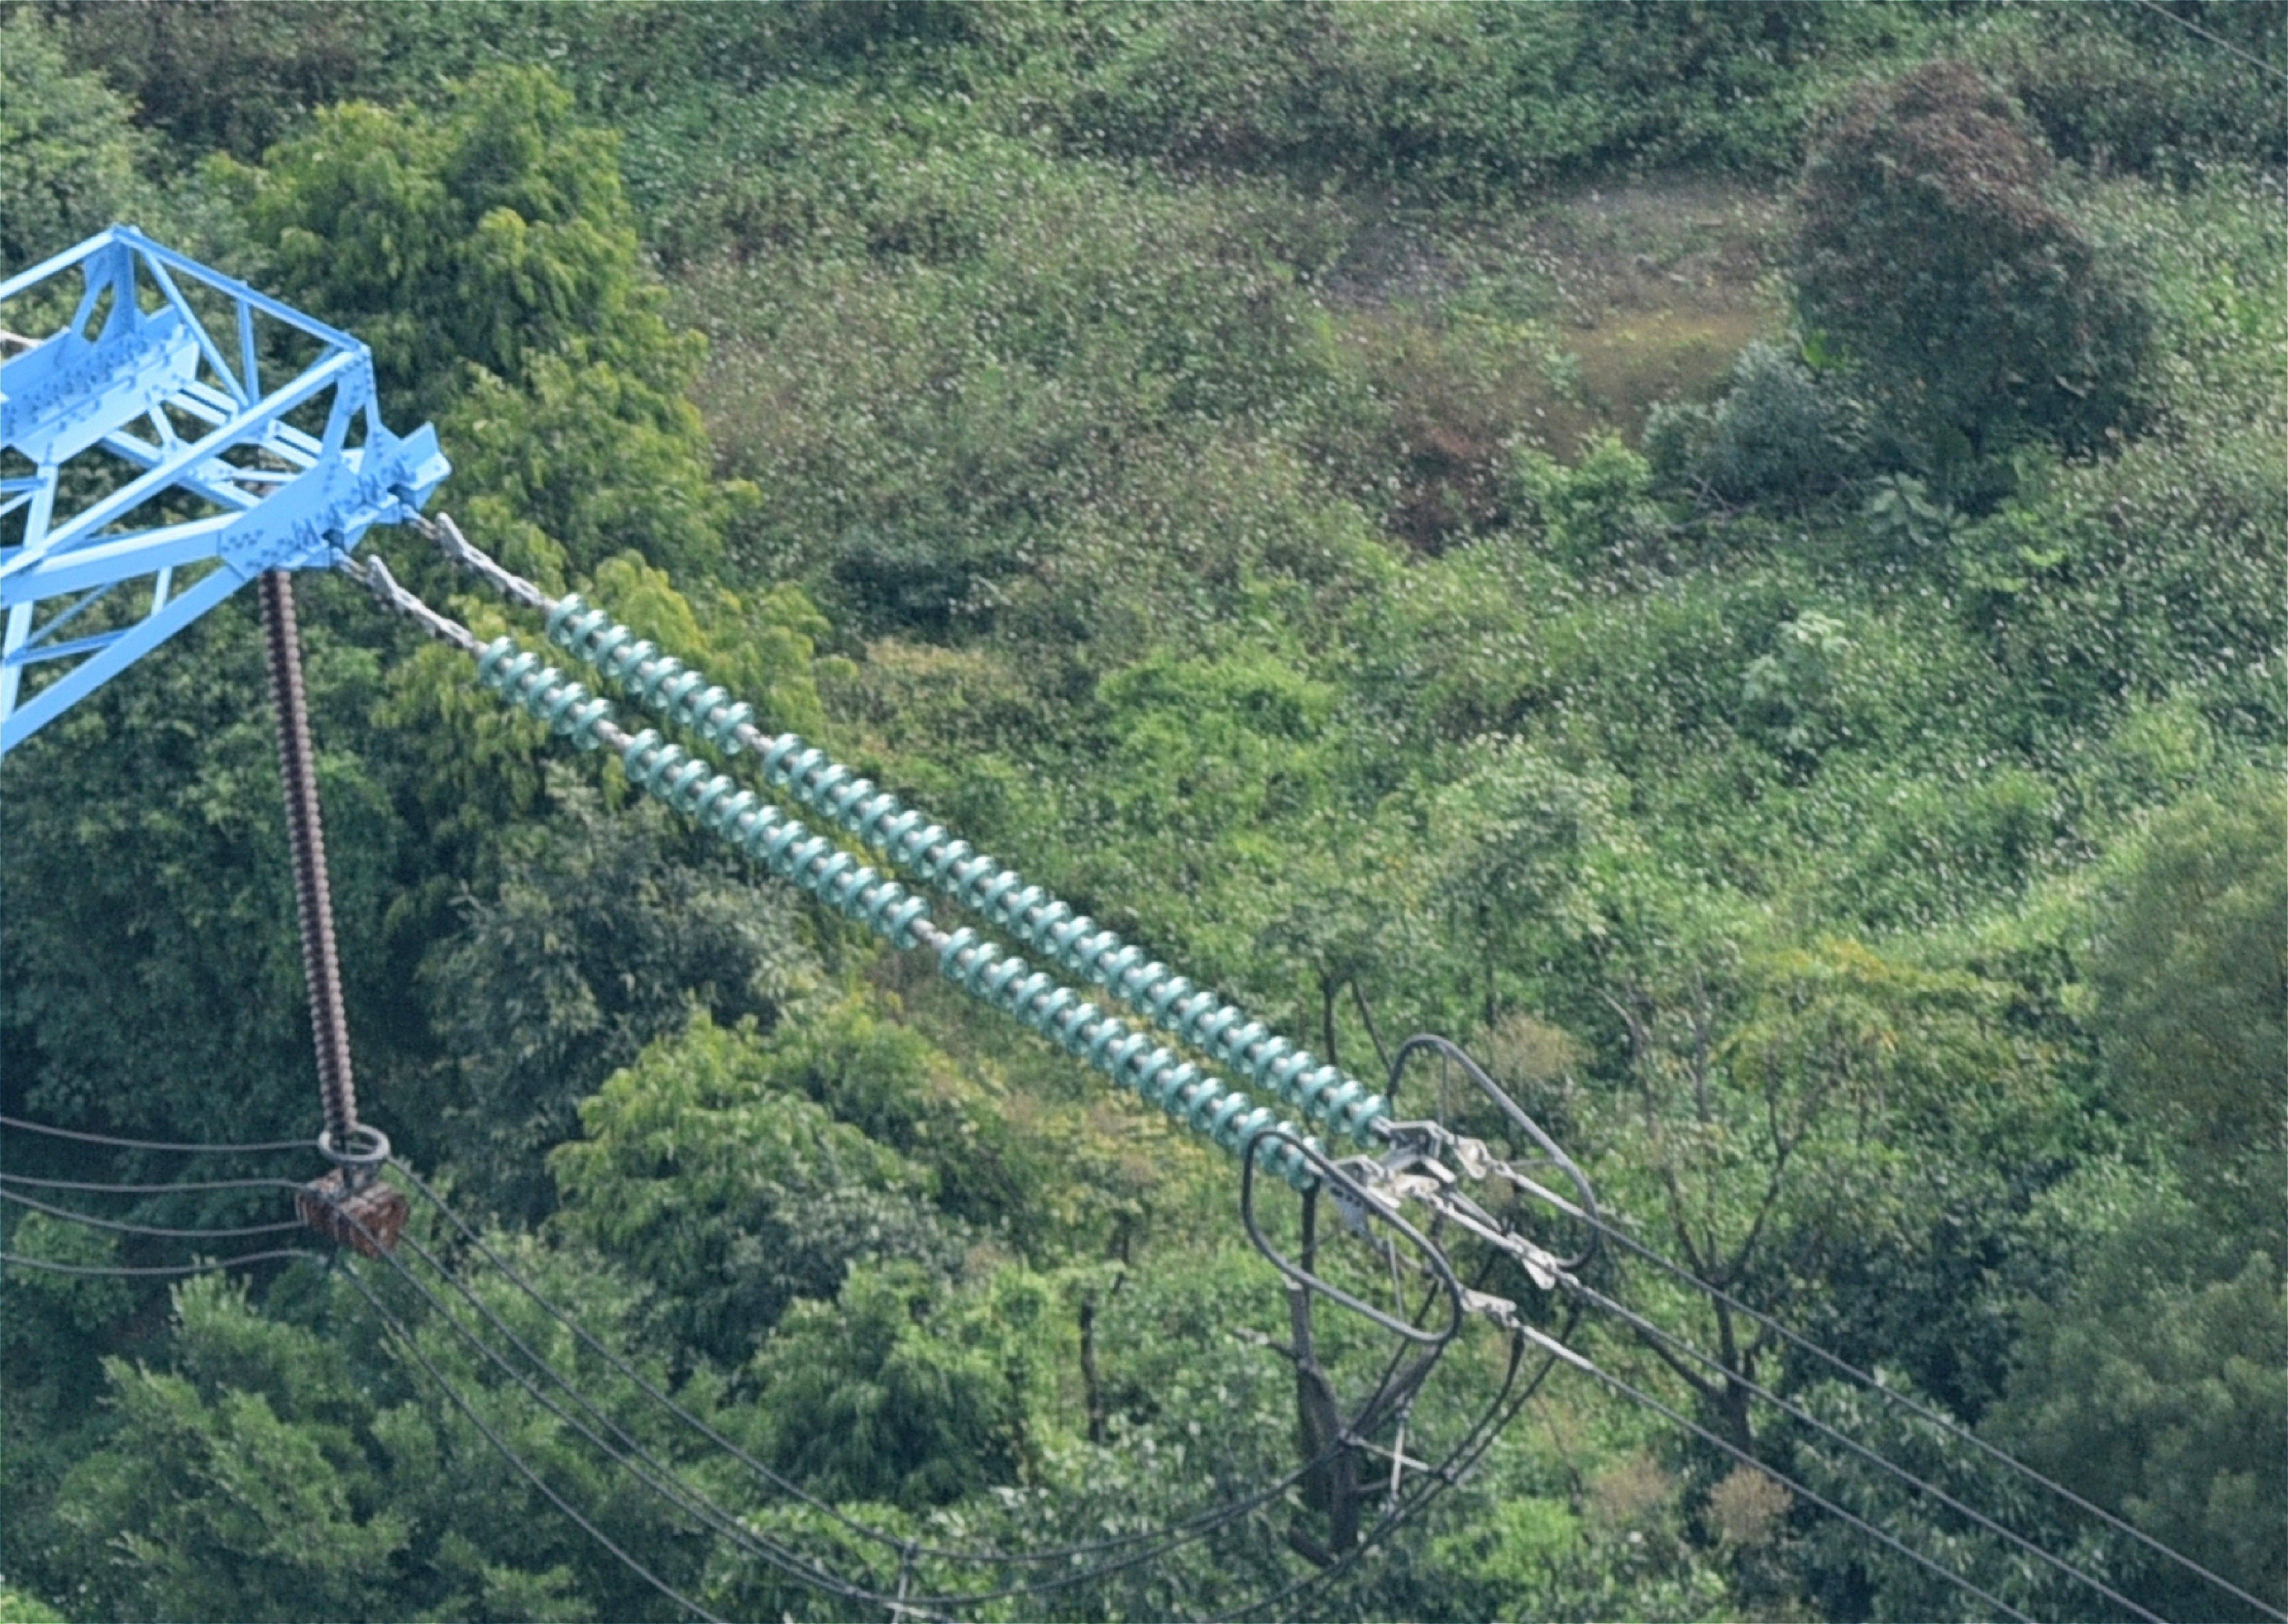insultor3: (439, 568, 1453, 1246)
